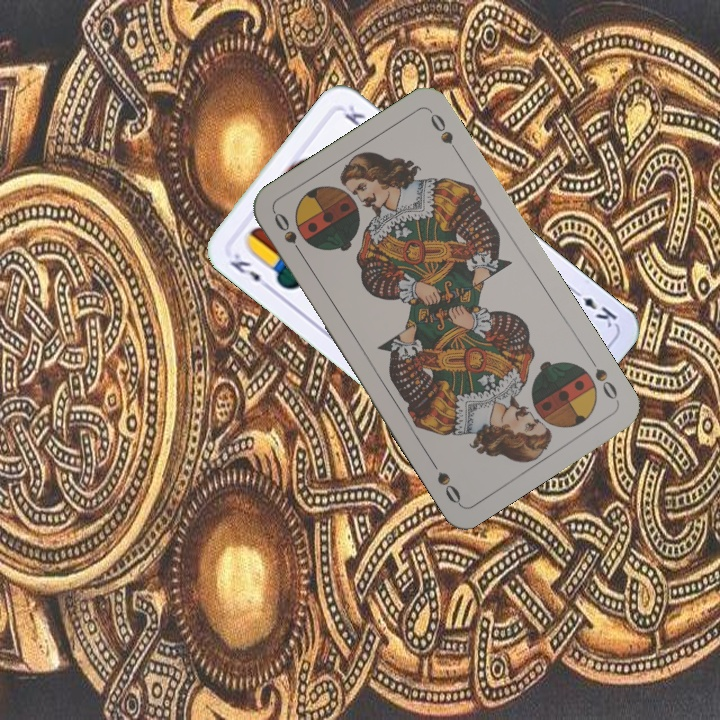EK: (568, 284, 620, 330), (225, 249, 274, 293)
SO: (269, 208, 308, 261), (584, 352, 621, 405)
